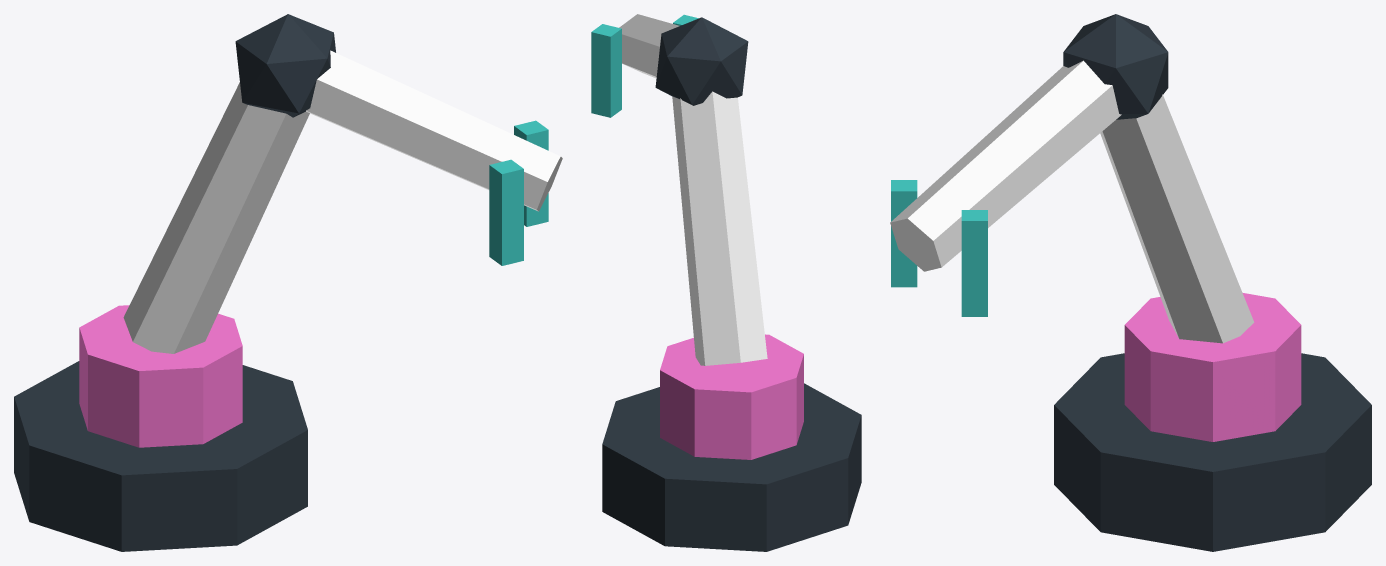
Rendered from robot-arm.glb.
3 views of the same model, side by side, from view 1: azimuth 30°, elevation 25°; view 2: azimuth 150°, elevation 25°; view 3: azimuth 270°, elevation 25° (orthographic). The views are drawn at different scales.
Parts seen in each view (by area): view 1: lab-robot-arm; view 2: lab-robot-arm; view 3: lab-robot-arm.
Boxes of the visible parts, left/top/right/bottom form: lab-robot-arm: left=14, top=14, right=562, bottom=551; lab-robot-arm: left=591, top=14, right=861, bottom=551; lab-robot-arm: left=890, top=14, right=1371, bottom=551.
Size of the model in its own units: 0.5459 by 0.64 by 0.5459.
